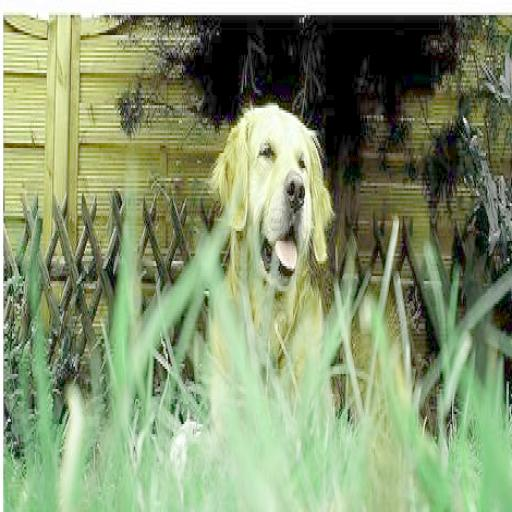dog_face: (211, 90, 338, 291)
